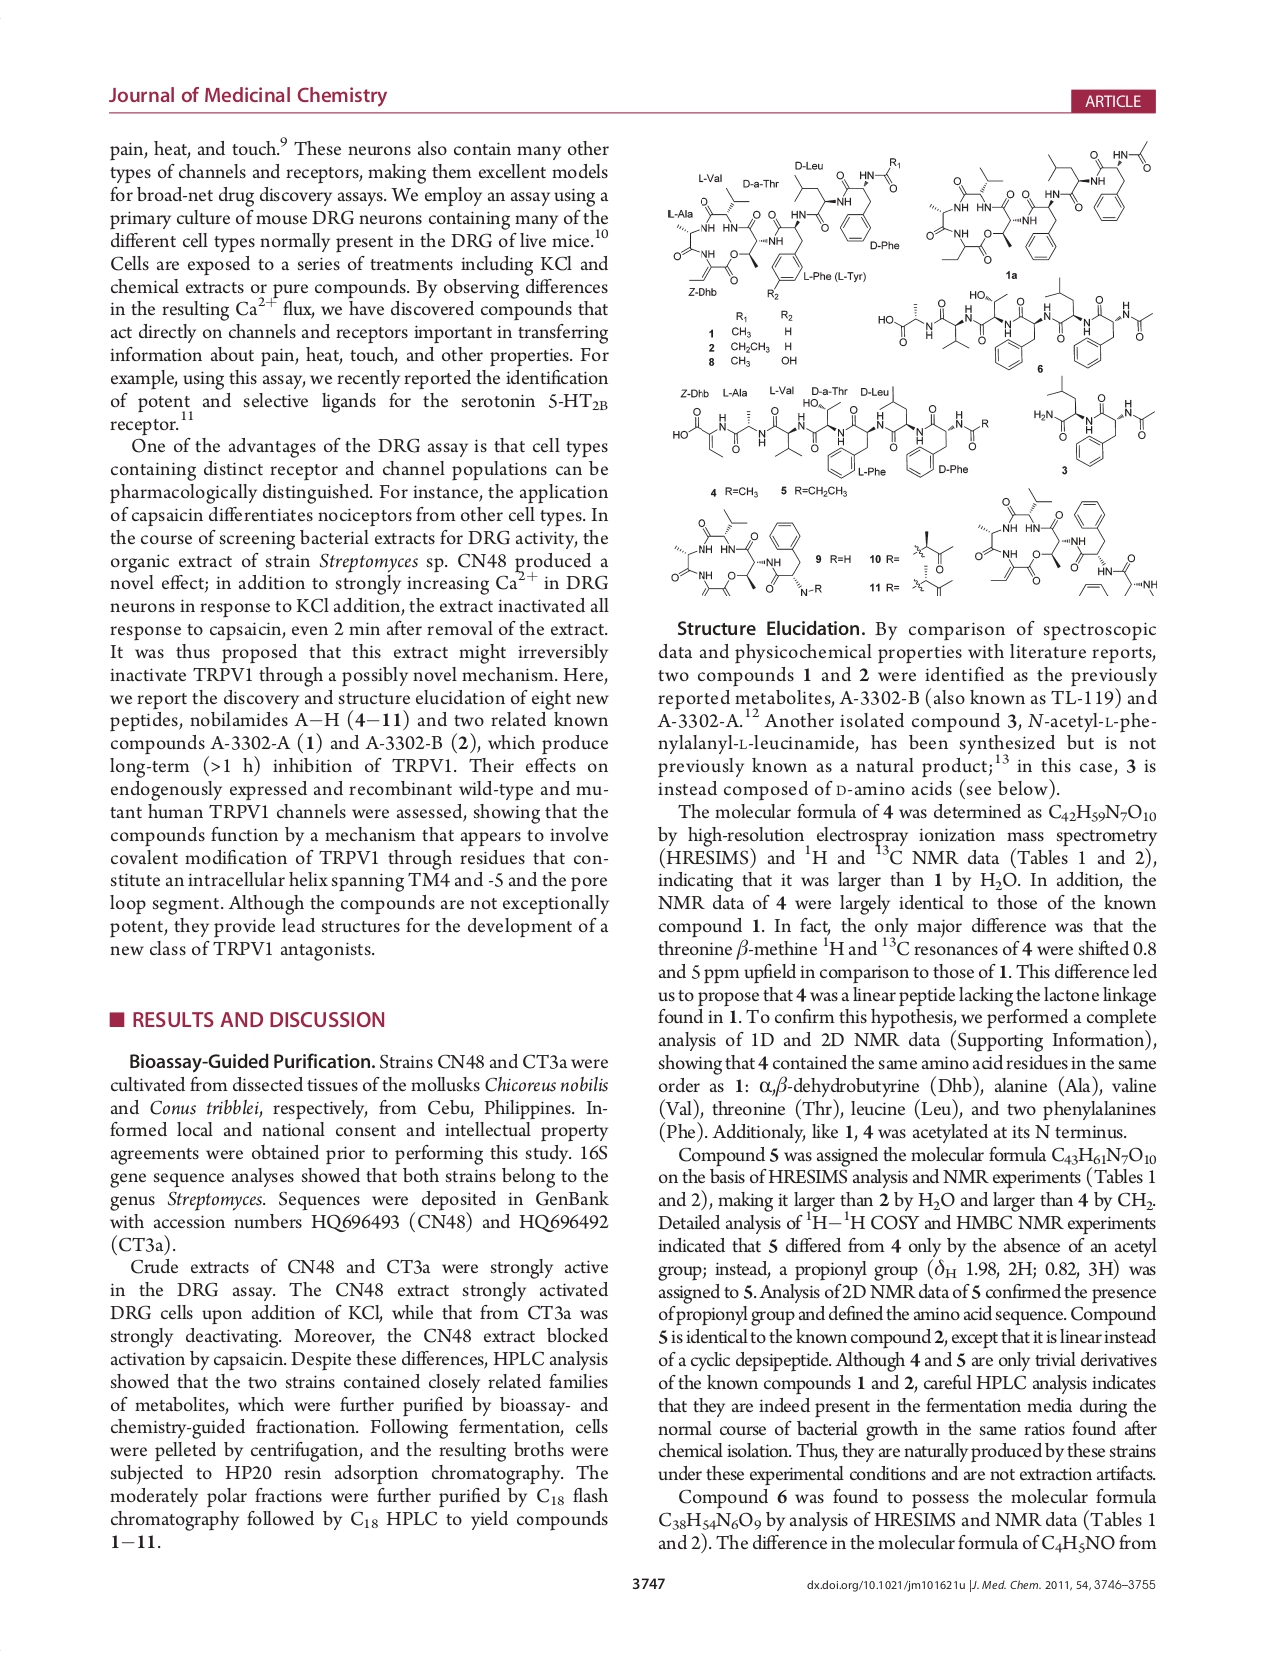exist_molecular: (666, 156, 906, 301), (670, 384, 991, 480), (923, 140, 1154, 265), (876, 277, 1154, 372), (972, 485, 1160, 598), (668, 505, 823, 600), (1031, 372, 1158, 469), (910, 531, 955, 575), (910, 564, 956, 598), (1077, 580, 1110, 600)
